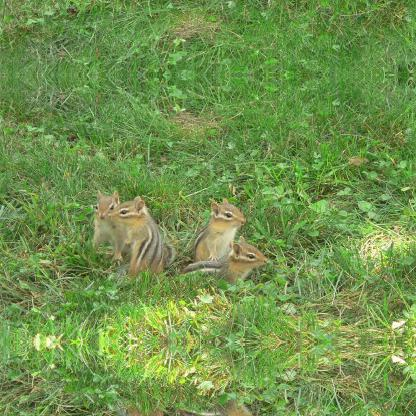Squirrel: (108, 194, 178, 276), (178, 236, 266, 284), (192, 196, 246, 262), (90, 188, 128, 264), (178, 398, 267, 415)
